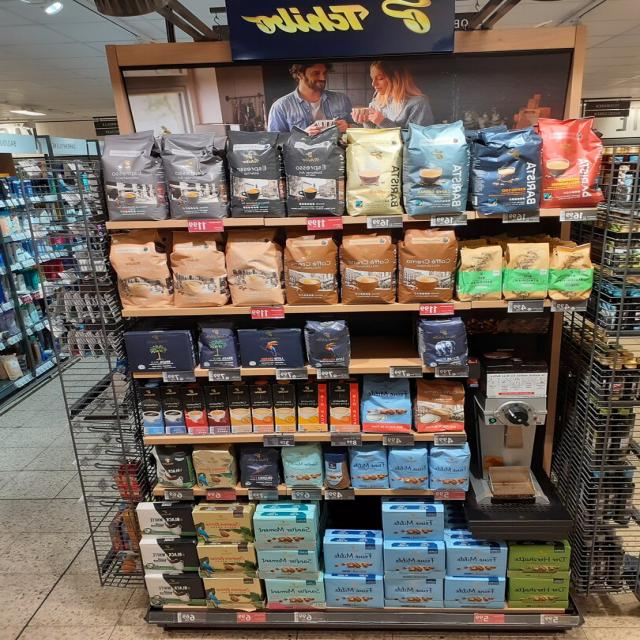AB Bohne: (420, 318, 470, 367)
Athiopien Bohne: (548, 240, 596, 301)
Athiopien Gemahlen: (502, 242, 550, 300), (458, 244, 504, 302)
BM Bohne: (195, 319, 237, 370)
BM Gemahlen: (125, 330, 191, 373)
BW Bohne: (151, 448, 192, 490)
BW Gemahlen: (135, 506, 196, 540), (139, 542, 199, 576), (144, 577, 206, 605)
Barista CB: (346, 124, 406, 215)
Barista CC: (403, 120, 469, 216)
Barista Espresso: (473, 127, 543, 217)
Barista Kolumbien: (542, 112, 604, 208)
C Fino Bohne: (237, 446, 281, 490)
CC Mild: (108, 228, 171, 310), (228, 227, 282, 306), (172, 232, 226, 308)
CC Vollmundig: (415, 378, 466, 434)
CC Vollmundig 36 Pads: (396, 228, 458, 304), (339, 229, 397, 305), (286, 232, 338, 306)
Colombia BB Bohne: (192, 447, 236, 491)
Colombia BB Gemahlen: (194, 545, 258, 579), (201, 578, 264, 609), (191, 512, 252, 544)
Empty Shelf: (351, 318, 419, 366)
Espresso Aromatisch: (98, 128, 162, 222), (163, 131, 225, 222)
Espresso Kraftig: (226, 129, 283, 217)
Espresso S Art: (286, 125, 344, 218)
FM 36 Pads: (362, 378, 412, 434)
FM Bohne: (429, 444, 471, 492), (389, 448, 429, 490), (350, 448, 388, 490)
FM Gemahlen: (384, 548, 446, 578), (382, 510, 444, 540), (324, 544, 382, 576), (446, 548, 508, 577), (385, 578, 443, 608), (326, 578, 384, 608), (444, 580, 506, 608)
FM Instant: (323, 452, 349, 490)
Herzhatfe Mundig: (508, 546, 572, 578), (508, 576, 570, 608)
LG Bohne: (305, 320, 351, 370)
LG Gemahlen: (237, 326, 303, 368)
SM Bohne: (282, 444, 322, 488)
SM Gemahlen: (253, 516, 313, 550), (255, 550, 318, 581), (267, 580, 323, 610)
Simo CCMild: (297, 384, 327, 432)
Simo CCMild bigpack: (273, 385, 296, 433)
Simo CCVollmundig: (330, 382, 358, 432)
Simo CCVollmundig bigpack: (249, 385, 273, 434)
Simo Decaff: (227, 385, 252, 433)
Simo Es Brazil: (182, 386, 209, 435)
Simo Es Caramel: (203, 385, 230, 434)
Simo Es Kraft: (159, 386, 186, 434)
Simo Es Vanilla: (138, 387, 164, 435)
